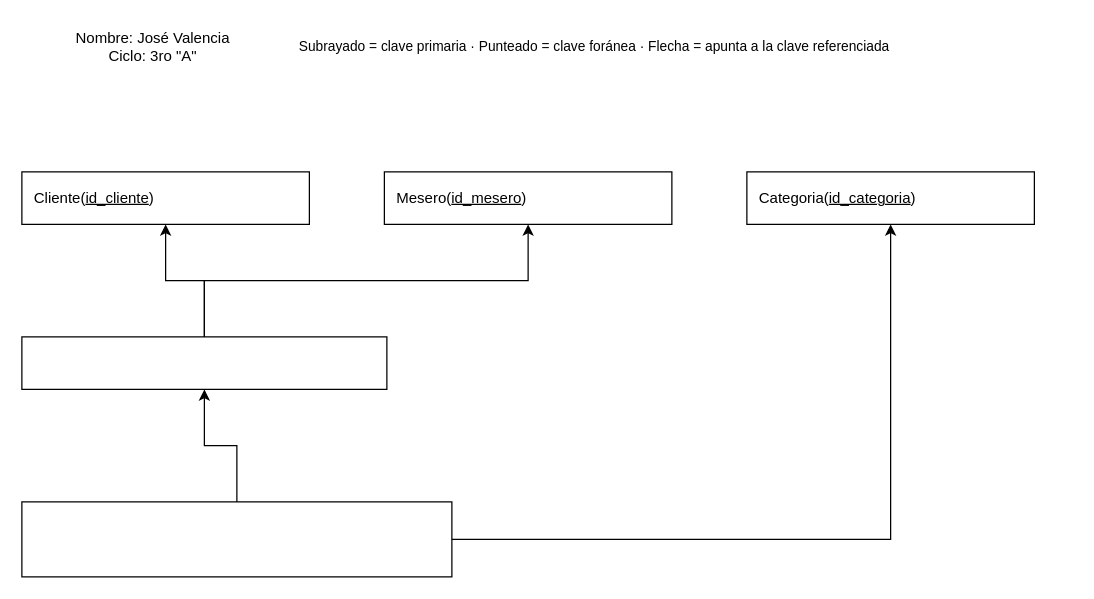
The diagram is 1094 pixels wide and 599 high, and some of its shapes have lost their labels. The box of each missing label's shape, as (x1, y1, x2, y2) in pixels:
Pedido( id_pedido , id_cliente , id_mesero ): (21, 336, 387, 389)
Plato( id_plato , precio, id_pedido , id_categoria ): (21, 501, 452, 577)
